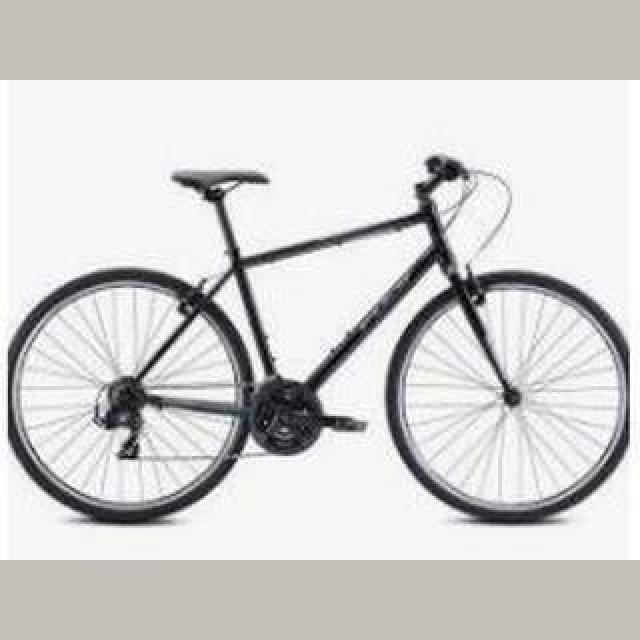Person: (0, 147, 638, 533)
